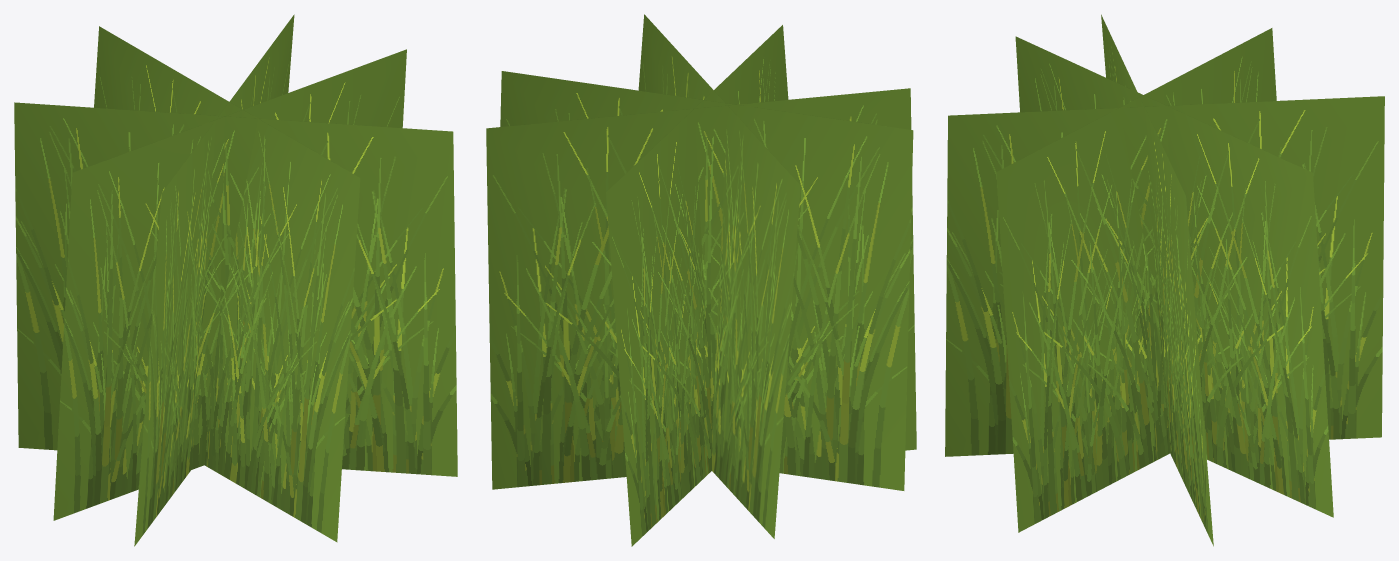
File: grass_clump.glb
3 views of the same model, side by side, from view 1: azimuth 30°, elevation 25°; view 2: azimuth 150°, elevation 25°; view 3: azimuth 270°, elevation 25° (orthographic). The views are drawn at different scales.
Parts seen in each view (by area): view 1: grass_clump; view 2: grass_clump; view 3: grass_clump.
Boxes of the visible parts, x1,y1,x2,y2 form: grass_clump: (14, 14, 457, 546); grass_clump: (486, 14, 916, 546); grass_clump: (945, 14, 1384, 546).
Size of the model in its own units: 0.616 by 0.55 by 0.6208.
1 material, 1 textured.
